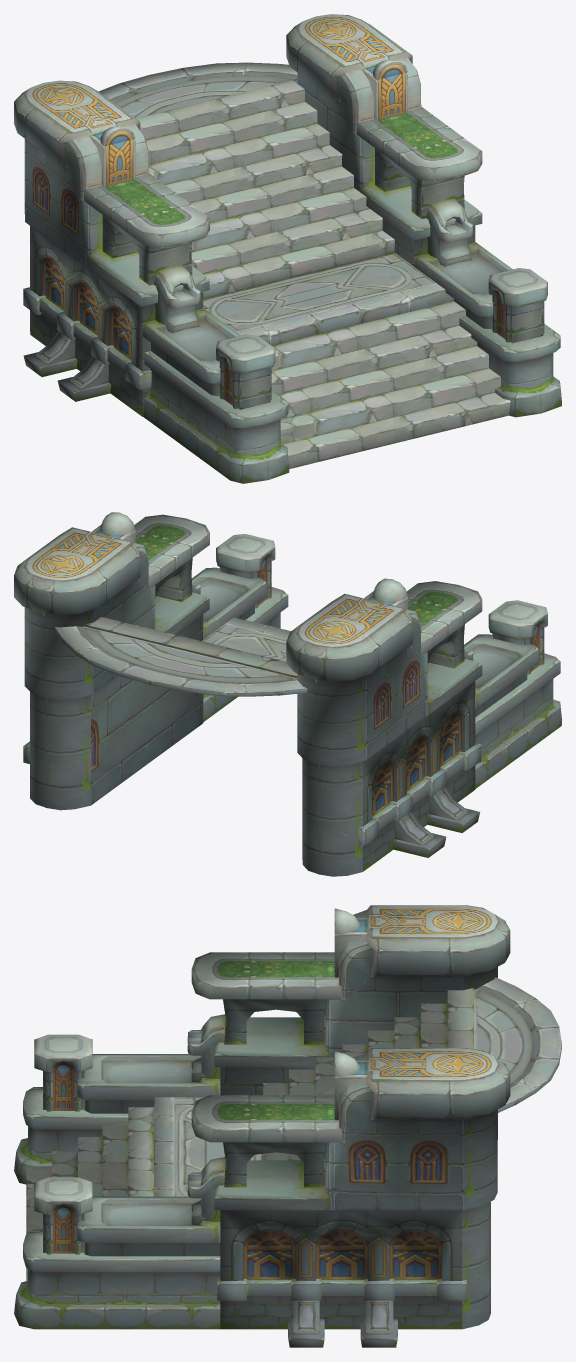
Rendered from Map_06_stairs01.FBX.
3 views of the same model, one above another, from view 1: azimuth 30°, elevation 25°; view 2: azimuth 150°, elevation 25°; view 3: azimuth 270°, elevation 25° (orthographic). The views are drawn at different scales.
Visible parts, largest first — view 1: Map_06_stairs01; view 2: Map_06_stairs01; view 3: Map_06_stairs01.
Part boxes in pixels (x1,y1,x2,y2): Map_06_stairs01: [14, 14, 561, 483]; Map_06_stairs01: [14, 512, 561, 876]; Map_06_stairs01: [14, 905, 561, 1347].
Size of the model in its own units: 1268 by 1381 by 724.
